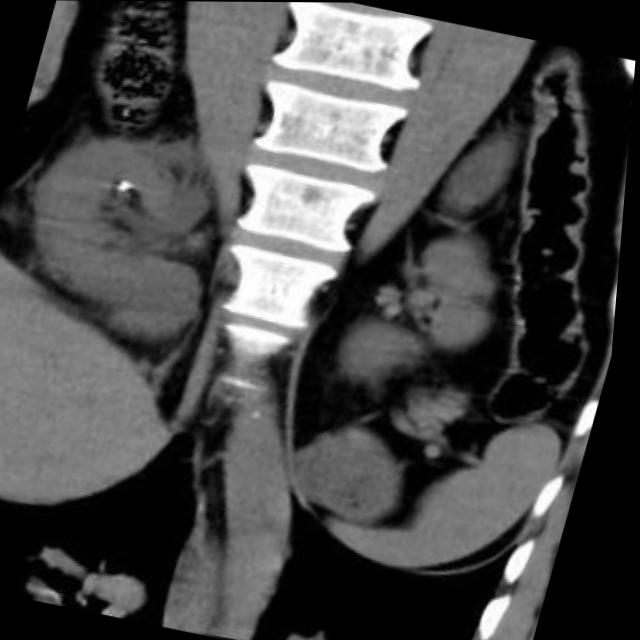Tas_Var: (119, 179, 135, 195)
